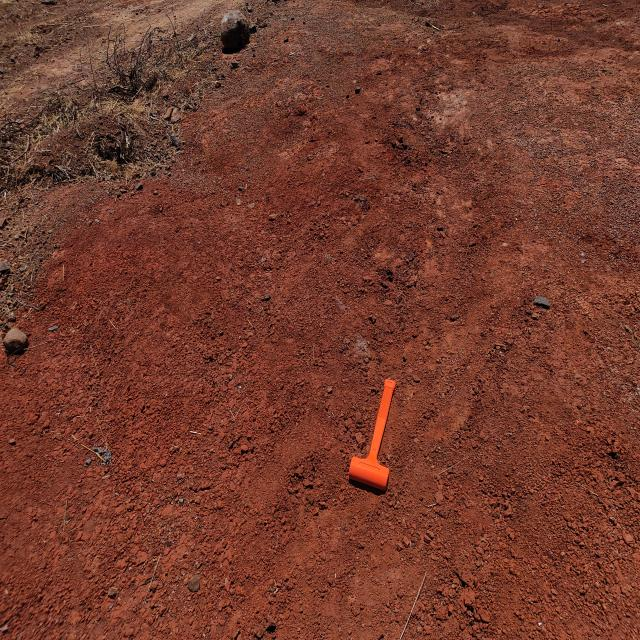Orange_hammer: (348, 377, 396, 492)
